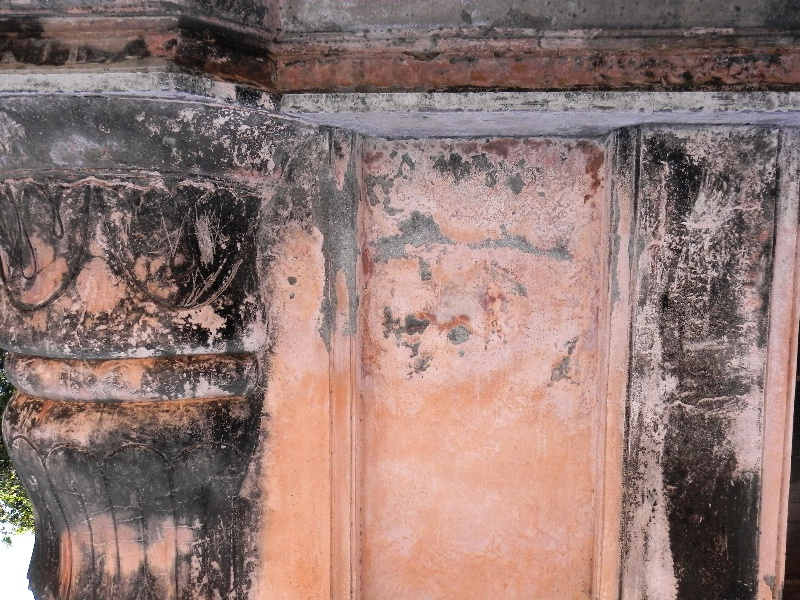Spalling: (313, 152, 367, 358), (375, 196, 452, 282)
